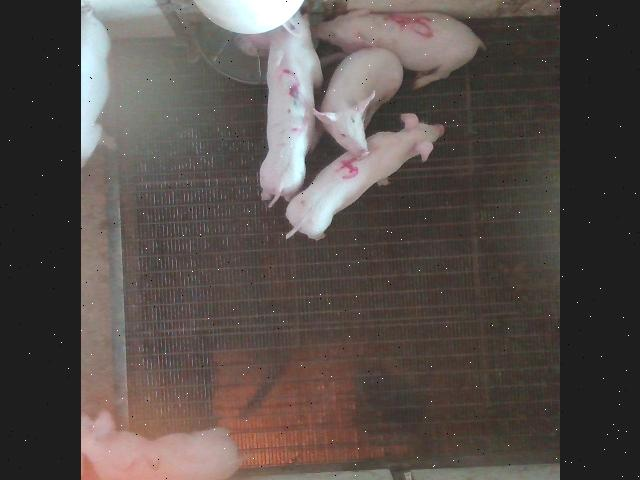pig-2: (81, 411, 240, 480)
pig-3: (259, 12, 321, 206)
pig-4: (285, 114, 442, 239)
pig-5: (311, 9, 484, 88)
